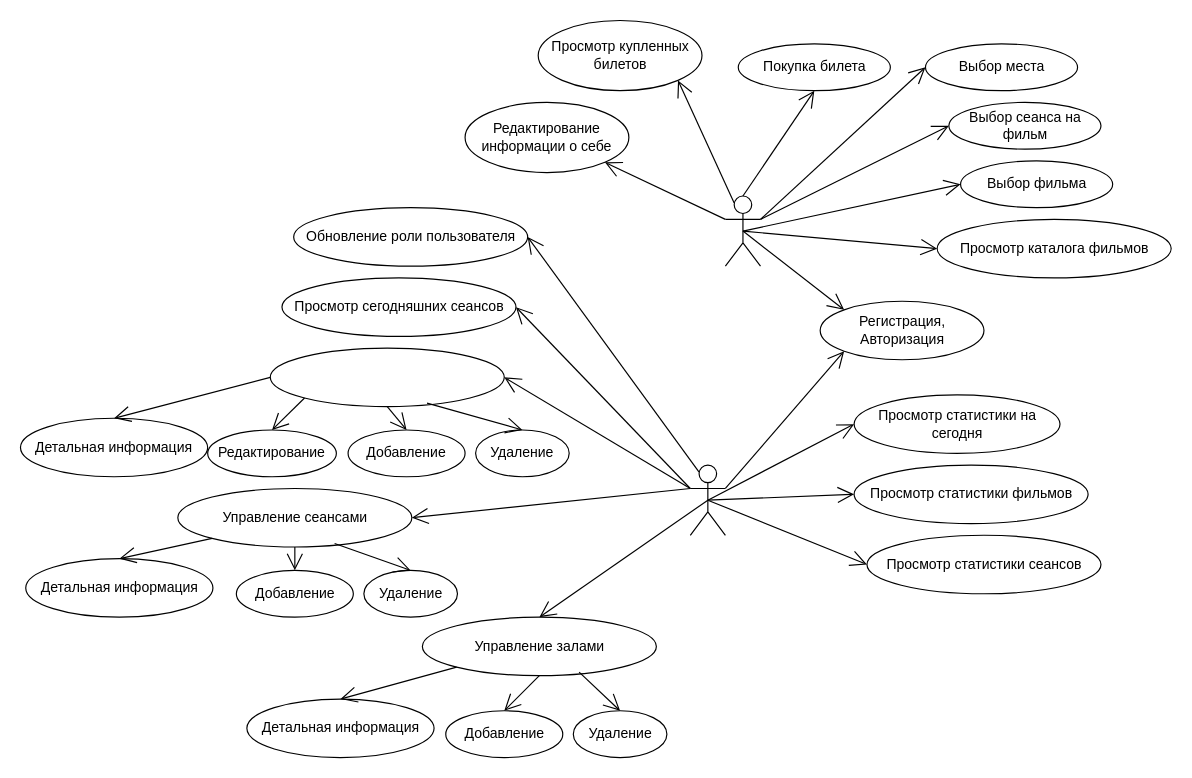
Some shapes in this 1192 by 778 pixel diagram are drawn without their labels. The shapes that lost their labels are listed below. From the top down, each one's box as (x1, y1, x2, y2) in pixels, then its label:
(724, 195, 760, 266): Пользователь
(269, 347, 504, 407): Управление фильмами
(689, 464, 725, 535): Администратор
